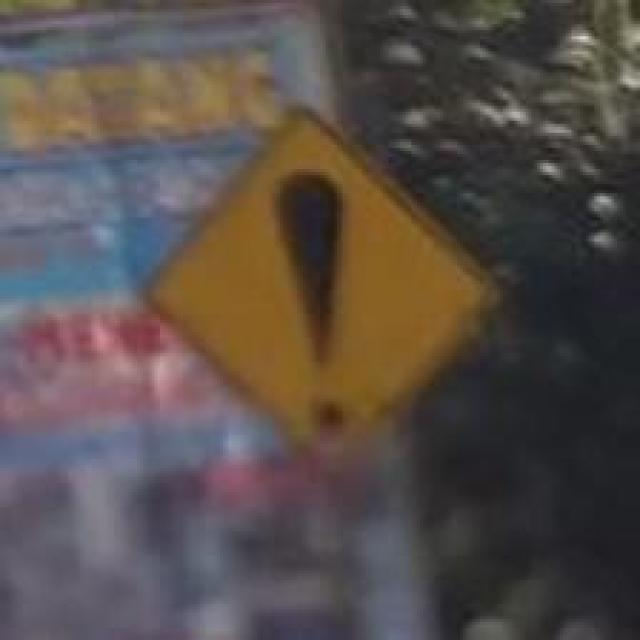traffic sign: (146, 112, 498, 459)
